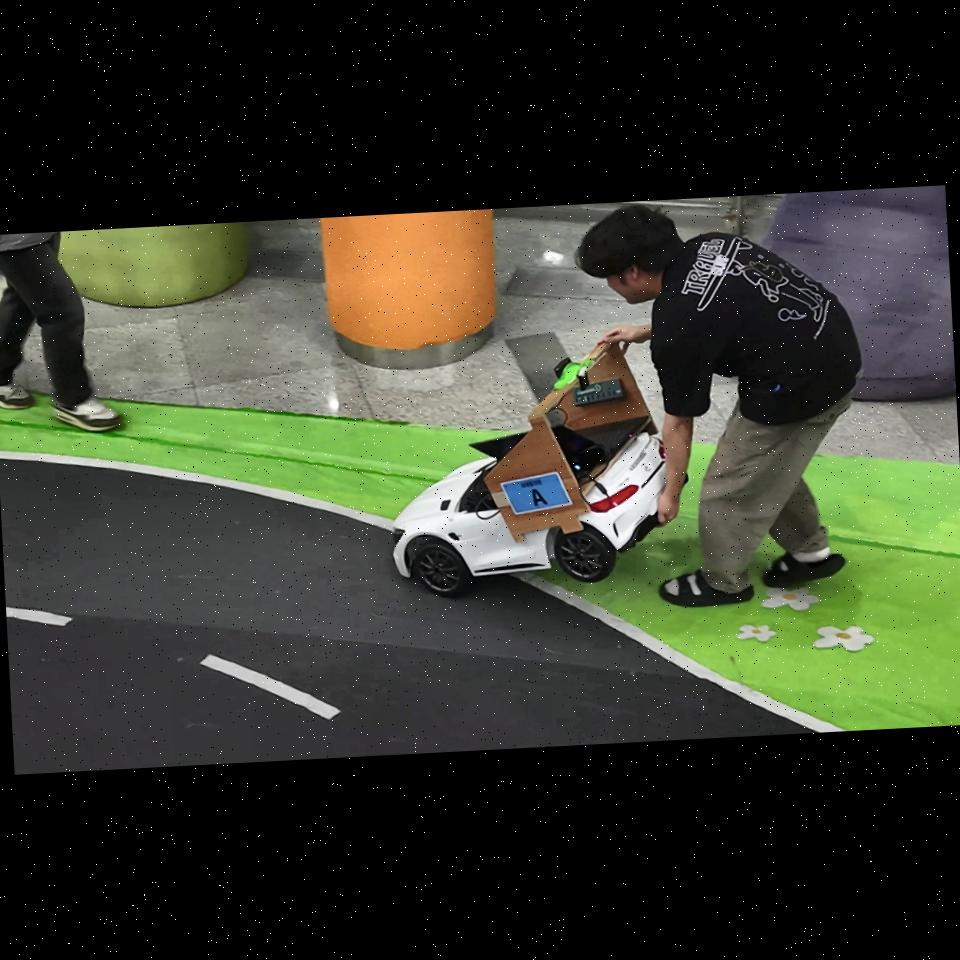broken_line: (200, 654, 340, 719), (6, 607, 72, 627)
